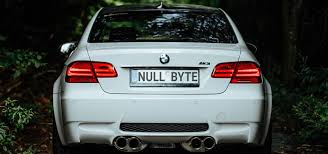number_plate: (127, 66, 215, 91)
